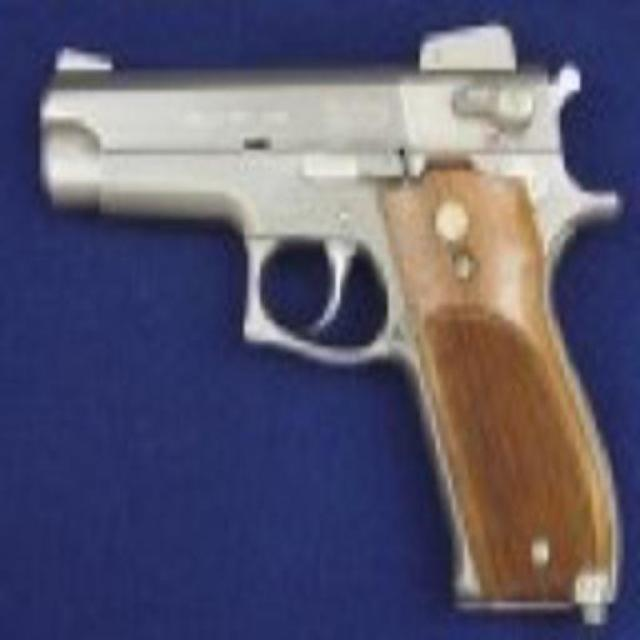pistol: (40, 15, 631, 612)
